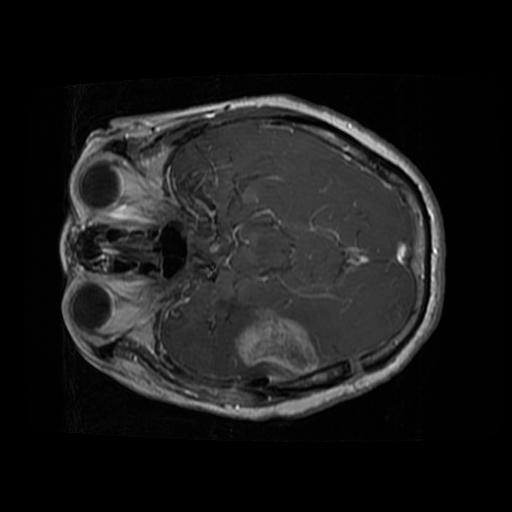glioma: (234, 306, 319, 375)
